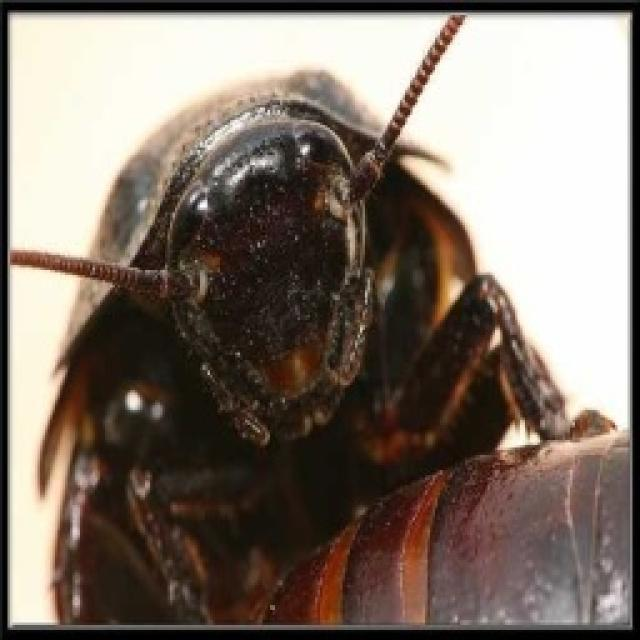cockroach: (23, 13, 626, 626)
